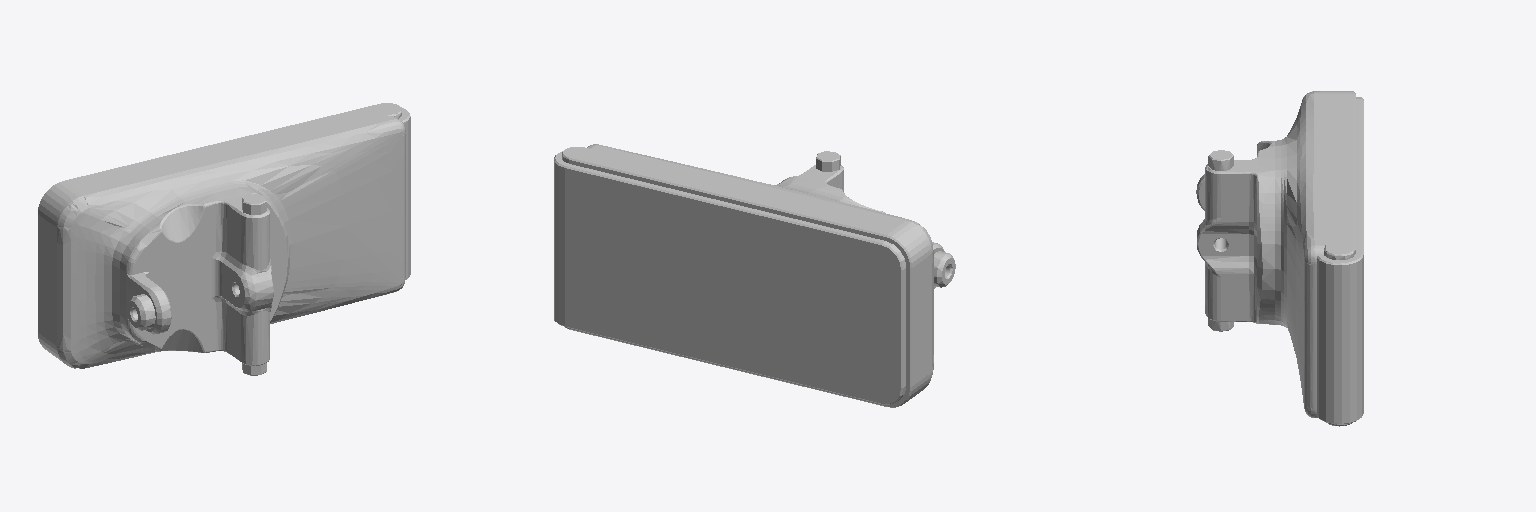
Rendered from left_foot.obj.
The picture shows the model from 3 angles: view 1: azimuth 30°, elevation 25°; view 2: azimuth 150°, elevation 25°; view 3: azimuth 270°, elevation 25°; orthographic projection.
Parts seen in each view (by area): view 1: Foot; view 2: Foot; view 3: Foot.
Boxes of the visible parts, <box> form: Foot: <box>38,103,410,375</box>; Foot: <box>554,144,955,407</box>; Foot: <box>1196,91,1363,426</box>.
Size of the model in its own units: 0.2119 by 0.096 by 0.0845.